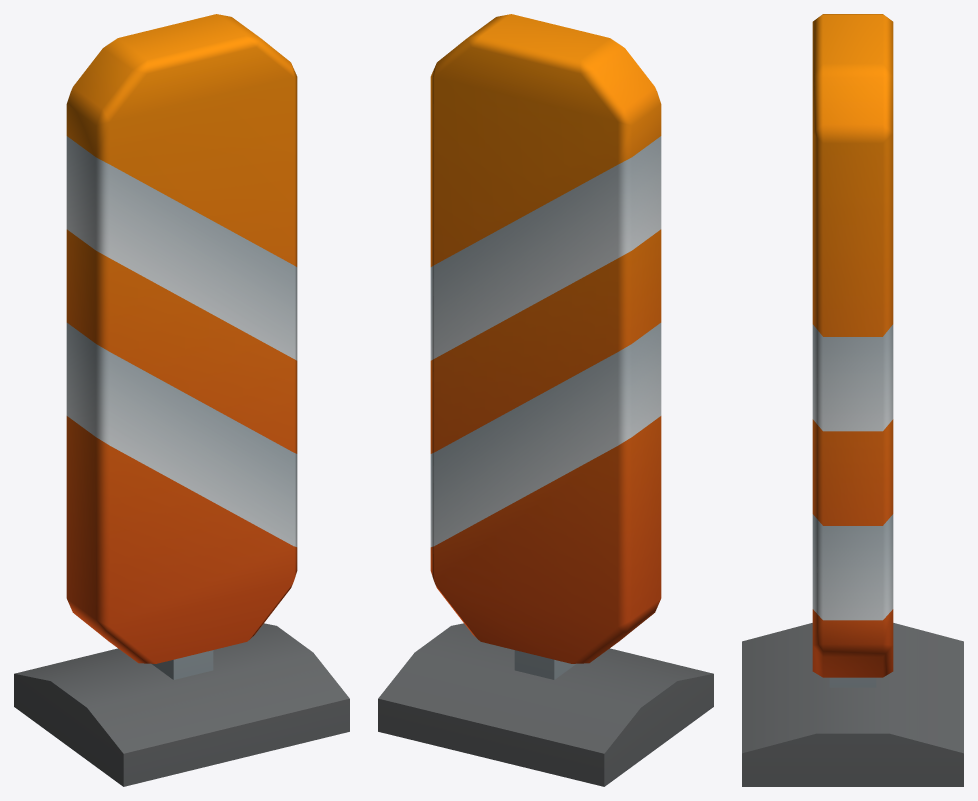
File: Barrier_06.fbx
The picture shows the model from 3 angles, left to right: view 1: azimuth 30°, elevation 25°; view 2: azimuth 150°, elevation 25°; view 3: azimuth 270°, elevation 25°; orthographic projection.
Parts seen in each view (by area): view 1: Barrier_06; view 2: Barrier_06; view 3: Barrier_06.
Part boxes in pixels (box(x1,y1,x2,y2)): Barrier_06: box(14, 14, 349, 786); Barrier_06: box(378, 14, 713, 786); Barrier_06: box(742, 14, 963, 786).
Size of the model in its own units: 45.83 by 38.38 by 132.
